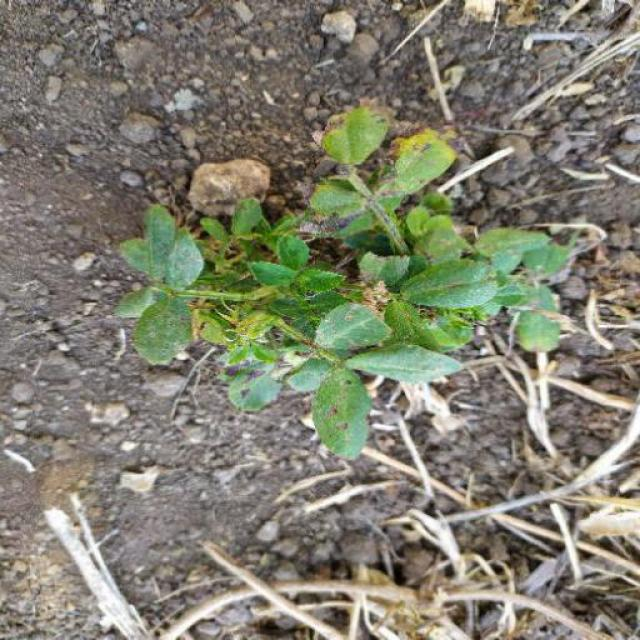weed: (96, 106, 605, 446)
